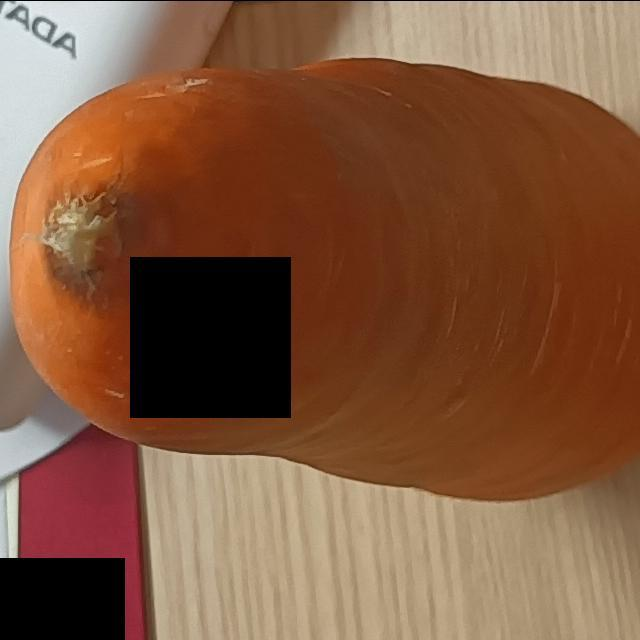carrot: (2, 47, 640, 510)
